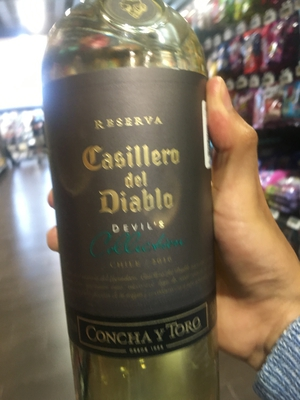casillero del diablo devils collection verde: (41, 11, 238, 394)
